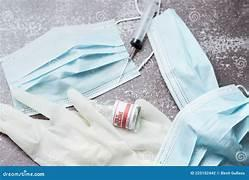Glove: (0, 90, 167, 164), (0, 90, 147, 164), (116, 99, 170, 160)
Iv_Bottle: (96, 100, 140, 130)
Mask: (2, 21, 139, 105), (156, 85, 248, 165), (148, 9, 217, 108)
Syringe: (118, 0, 159, 81), (130, 0, 159, 58)
